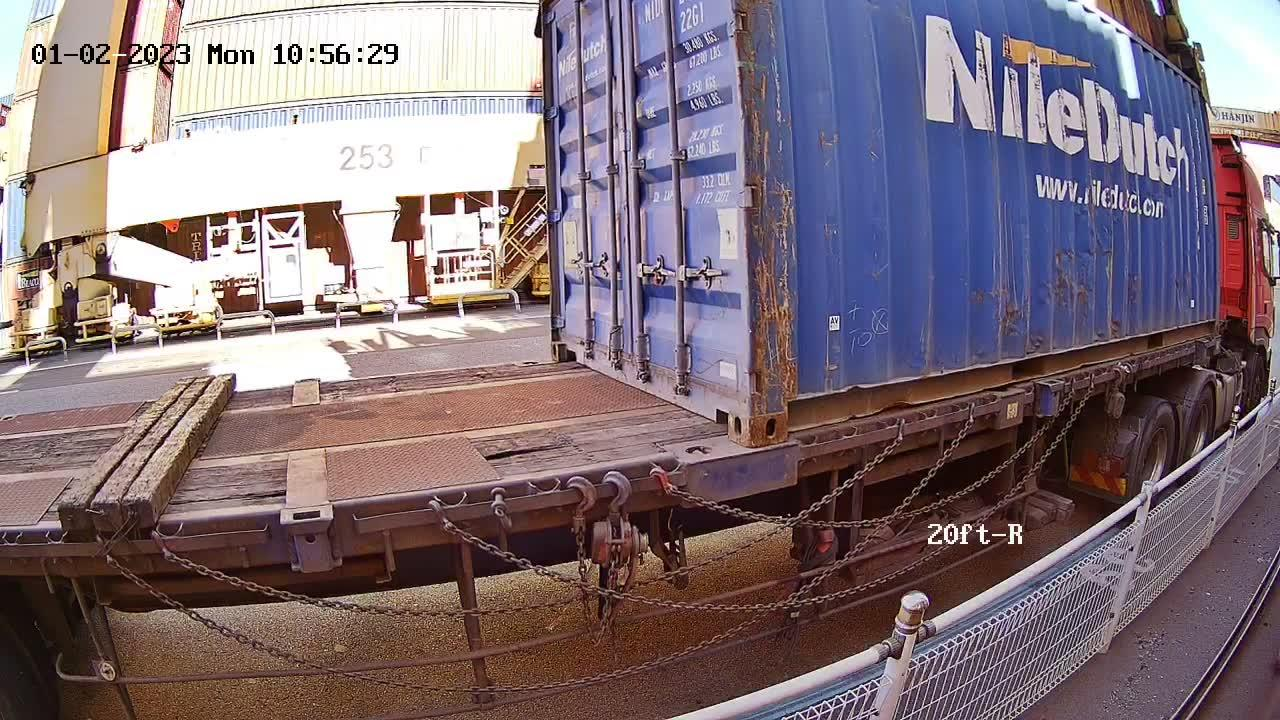Chassis: (521, 360, 735, 464)
Cone: (671, 442, 736, 502), (748, 441, 788, 491)
Hole_L: (749, 362, 825, 449), (549, 320, 583, 369)
Hole_R: (701, 362, 750, 449)
Tire: (1133, 402, 1179, 511), (1183, 388, 1217, 477)
